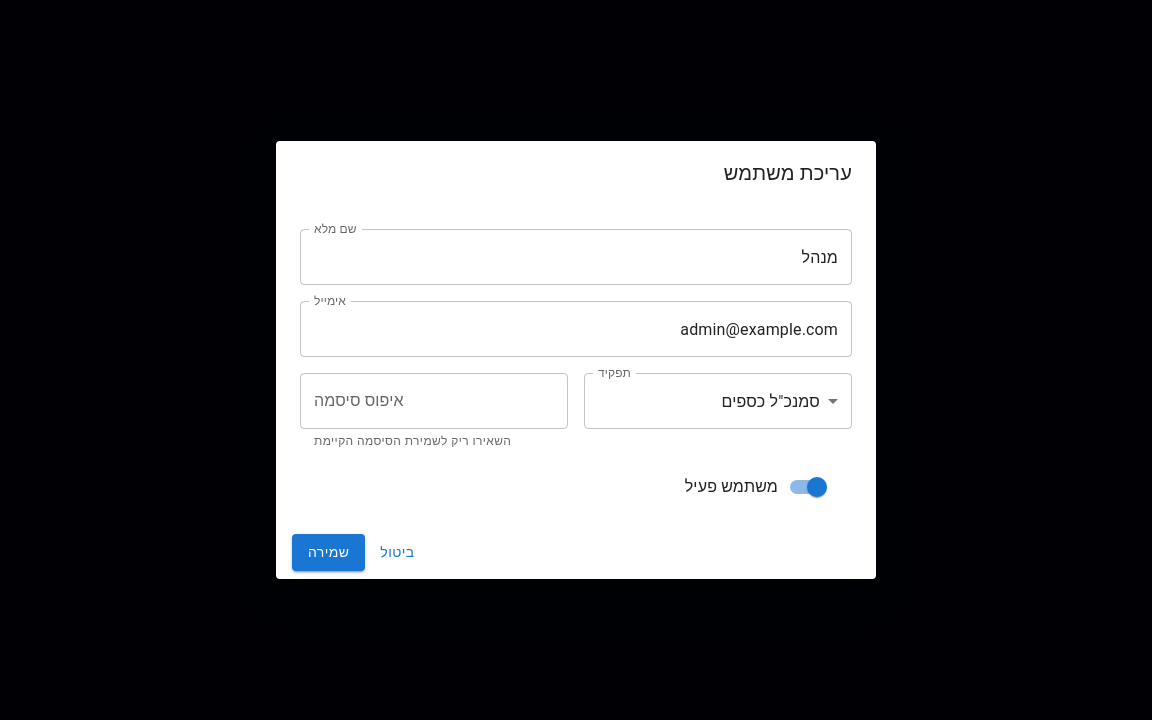
Test: UserDialog › names the field of a 422 instead of a generic message
Click the button "שמירה": click(329, 552) left=292, top=534, right=365, bottom=571
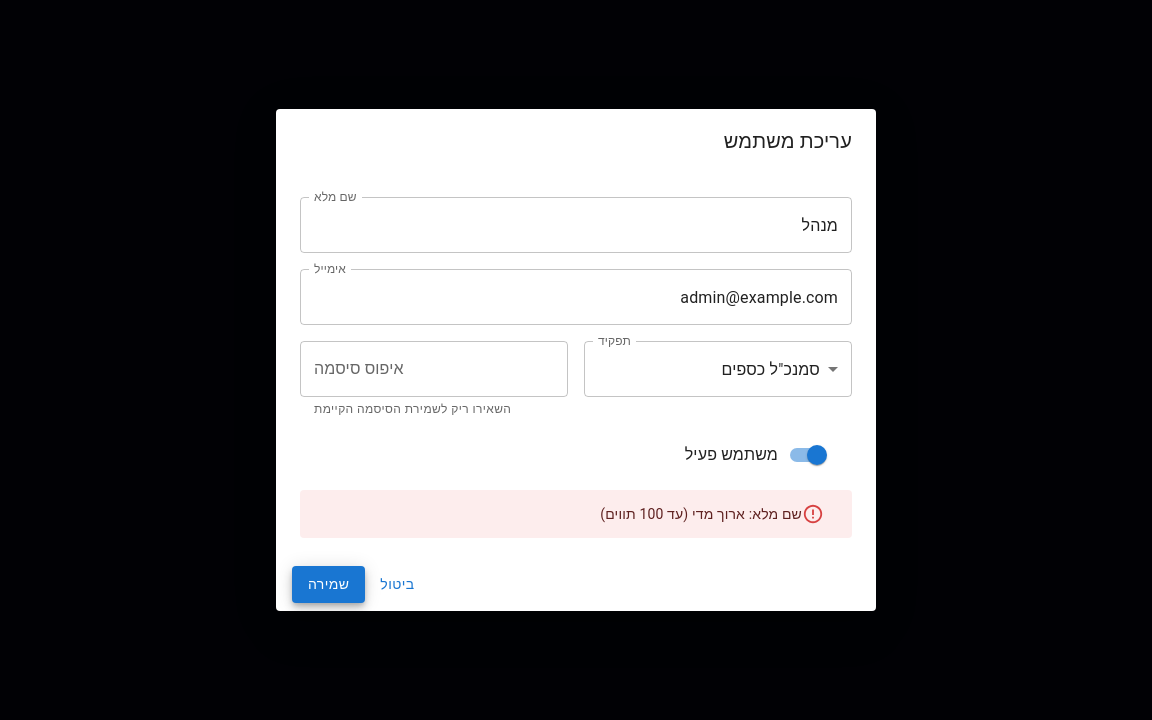
Result: the text "שם מלא: ארוך מדי (עד 100 תווים)" is shown at left=600, top=506, right=802, bottom=522
